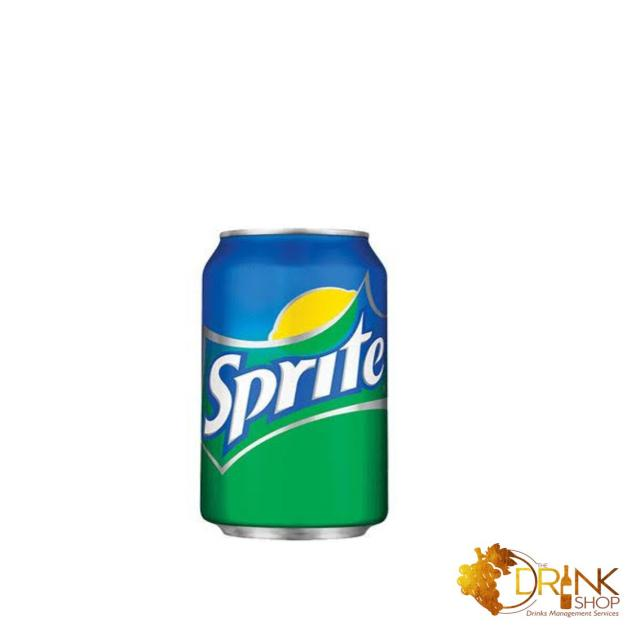sprite: (192, 224, 394, 550)
